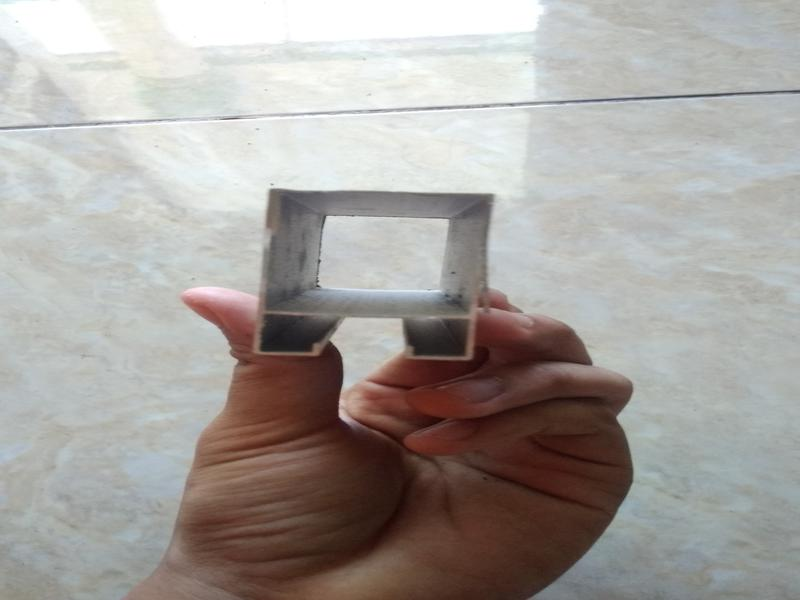Aluminium_1: (248, 163, 501, 375)
